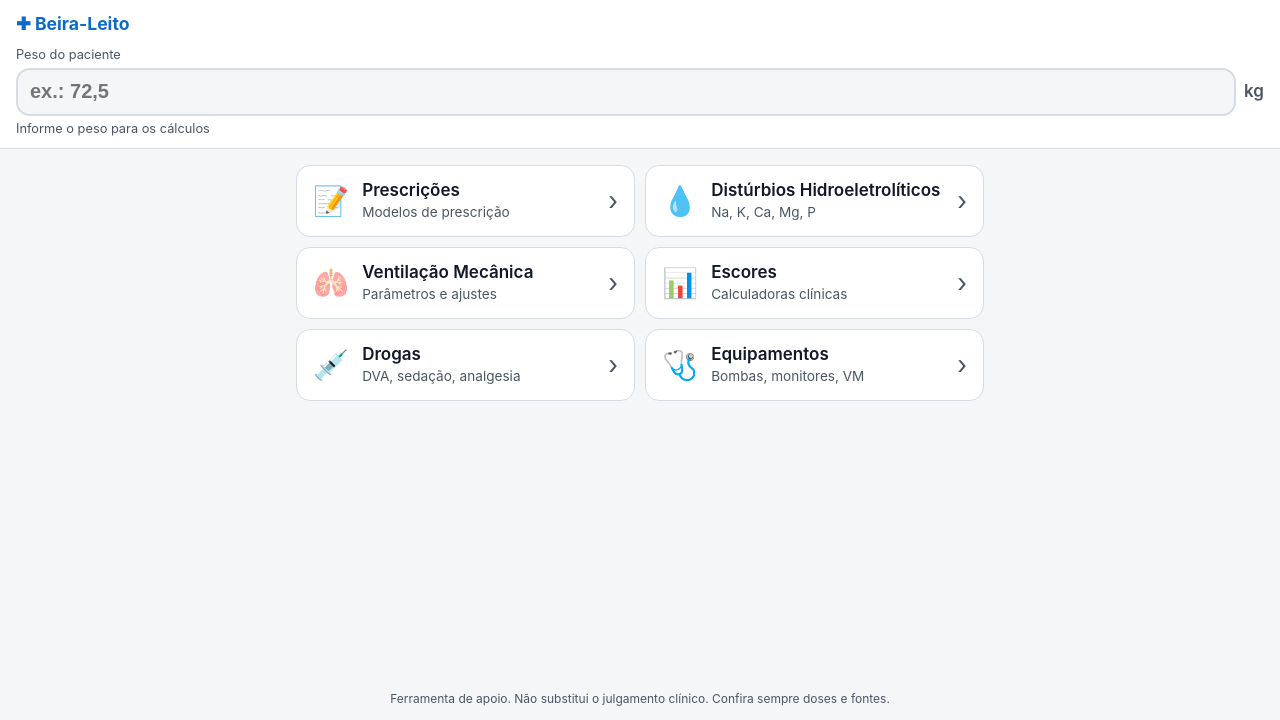
Scenario: peso do paciente › é compartilhado entre as páginas
In the field labelled "Peso do paciente": (626, 92) x1=16 y1=68 x2=1236 y2=116, type "72,5"
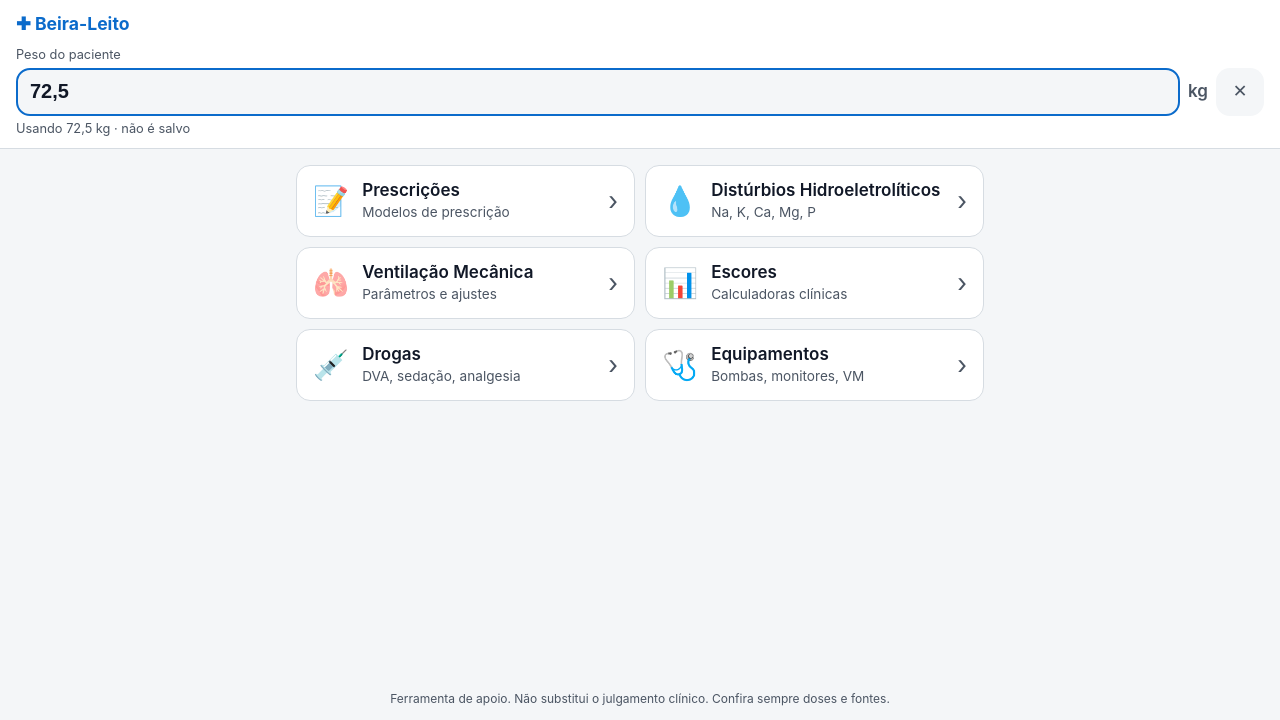
expect the text "Usando 72,5 kg · não é salvo" is shown: met, box x1=16 y1=121 x2=190 y2=136
Click the link "💉 Drogas DVA, sedação, analgesia ›": (331, 364) x1=296 y1=329 x2=635 y2=401
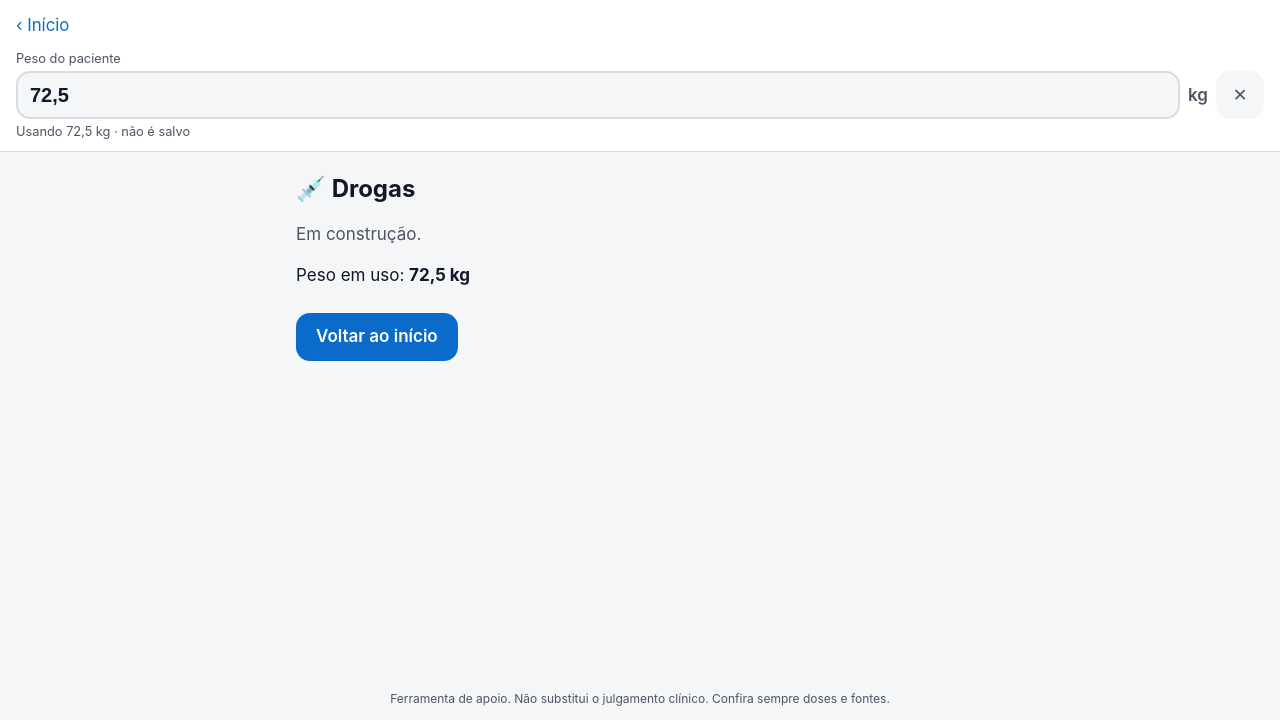
expect the text "72,5 kg" is shown: met, box x1=409 y1=265 x2=470 y2=285
Click the link "‹ Início": (43, 25) x1=16 y1=15 x2=69 y2=35
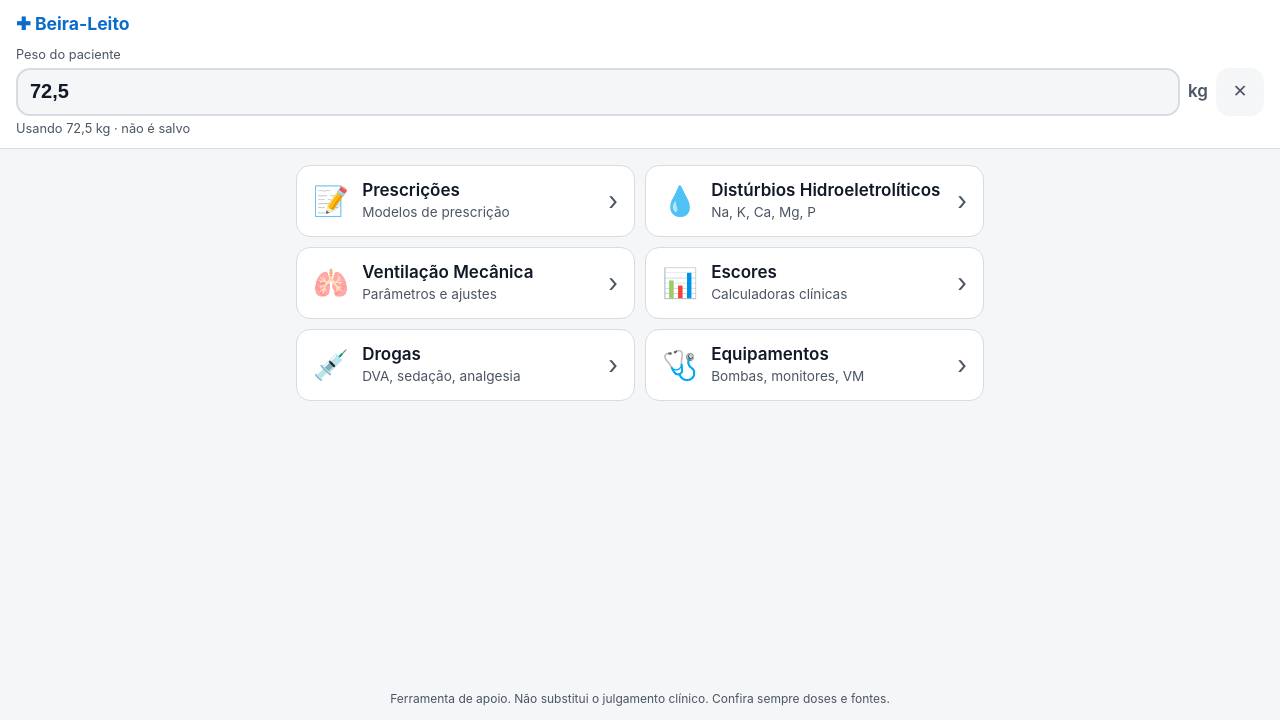
Click the link "📊 Escores Calculadoras clínicas ›": (680, 282) x1=645 y1=247 x2=984 y2=319
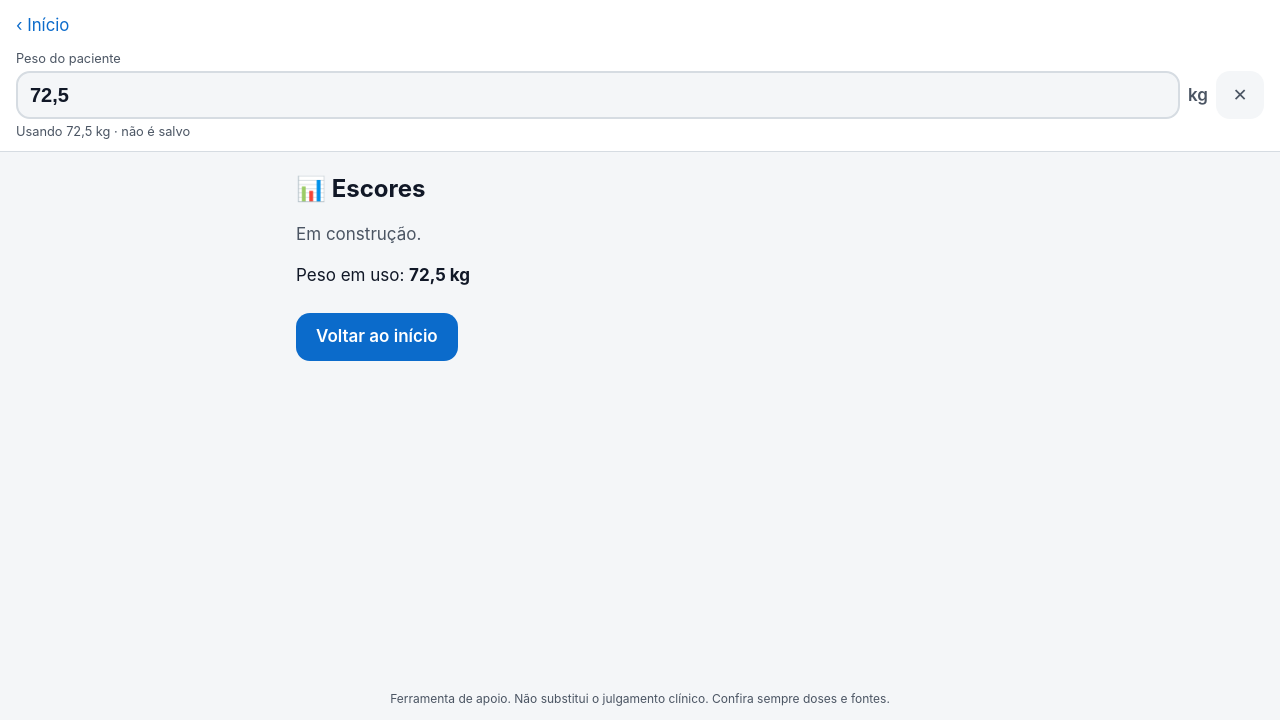
expect the text "72,5 kg" is shown: met, box x1=409 y1=265 x2=470 y2=285
